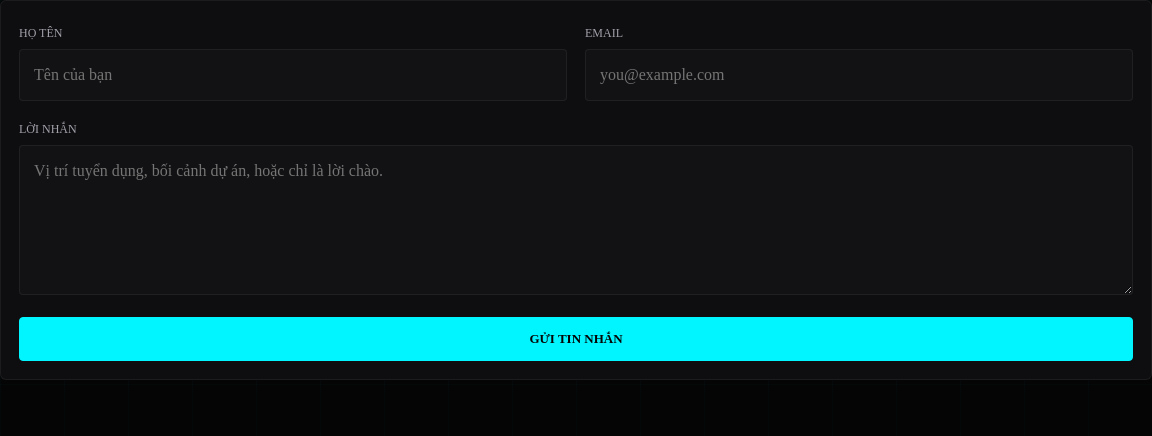
ContactForm › should show Vietnamese validation messages when locale is vi
This screenshot has width=1152, height=436.
Click the button "Gửi tin nhắn" at {"x": 576, "y": 339}, box [19,317,1133,361]
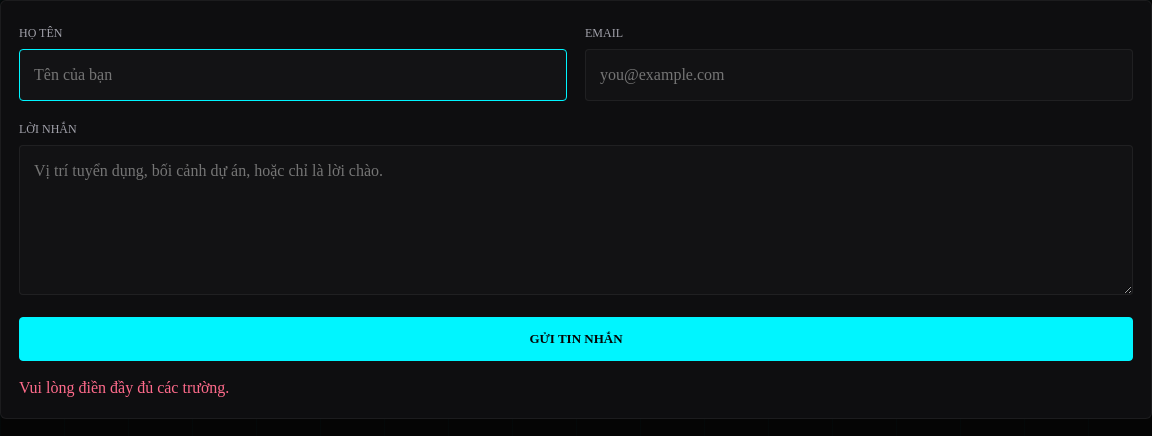
Result: the message reads "Vui lòng điền đầy đủ các trường." at [19,379,229,396]
